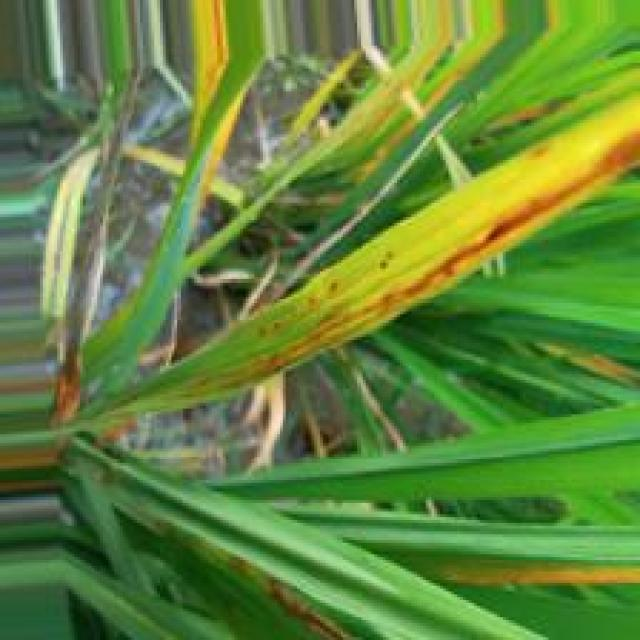Narrow_Brown_Leaf_Spot: (173, 85, 640, 405)
